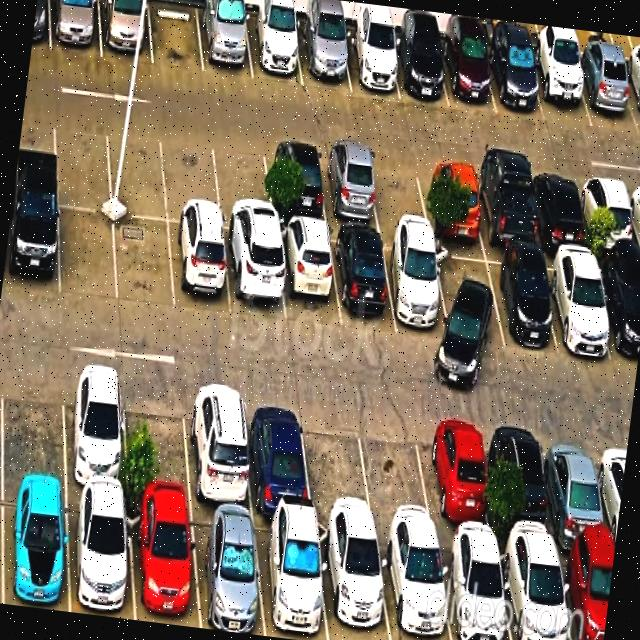empty: (358, 406, 436, 534), (301, 399, 374, 527), (123, 374, 191, 504), (2, 360, 65, 486), (433, 243, 504, 347), (106, 120, 167, 220), (212, 134, 273, 234), (162, 128, 221, 226), (114, 215, 174, 311), (53, 113, 111, 211), (59, 207, 117, 301), (367, 151, 429, 231), (148, 0, 203, 72)
occupied: (189, 507, 265, 636), (127, 499, 200, 628), (421, 411, 493, 541), (254, 515, 327, 640), (541, 424, 612, 552), (184, 382, 252, 512), (243, 390, 312, 517), (67, 490, 134, 620), (317, 522, 390, 640), (63, 365, 127, 496), (2, 484, 68, 611), (491, 418, 556, 546), (377, 532, 451, 640), (541, 250, 613, 357), (437, 536, 511, 640), (497, 542, 571, 640), (381, 235, 450, 340), (484, 248, 556, 348), (329, 228, 396, 330), (276, 223, 340, 327), (168, 222, 231, 315), (222, 231, 285, 322), (472, 163, 538, 248), (2, 196, 58, 295), (556, 547, 614, 640), (572, 53, 638, 133), (263, 141, 327, 223), (420, 157, 483, 240), (594, 255, 640, 367), (318, 146, 380, 227), (528, 49, 591, 127), (528, 168, 589, 248), (577, 172, 636, 253), (485, 40, 544, 120), (439, 36, 496, 113), (389, 34, 448, 106), (244, 12, 302, 85), (197, 4, 252, 79), (341, 27, 399, 98), (296, 22, 350, 90), (98, 0, 152, 63), (49, 0, 101, 56), (620, 61, 640, 132)
